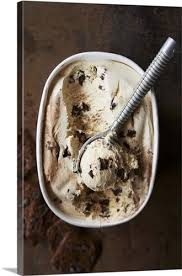ice-cream: (44, 59, 154, 223), (82, 139, 126, 193)
